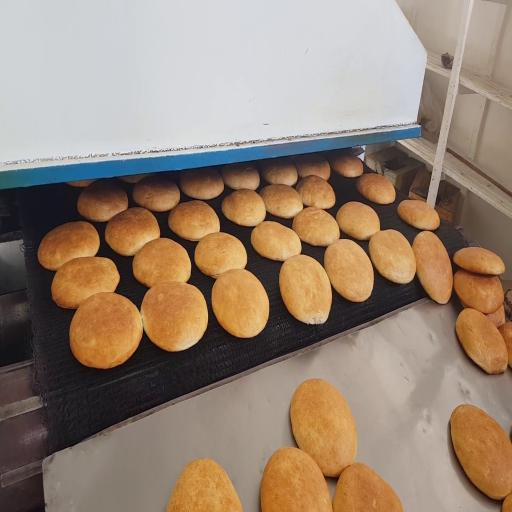bread: (290, 379, 357, 476), (450, 405, 511, 499), (70, 293, 142, 368), (141, 282, 207, 351), (261, 448, 332, 511), (212, 269, 269, 338), (167, 459, 242, 511), (279, 255, 331, 324), (51, 257, 119, 309), (456, 308, 507, 374), (333, 463, 403, 511), (324, 239, 373, 302), (412, 231, 453, 304), (38, 221, 99, 270), (133, 238, 191, 287), (105, 207, 159, 255), (369, 230, 416, 283), (195, 233, 247, 278), (454, 270, 503, 313), (78, 180, 128, 222), (168, 201, 219, 241), (251, 221, 301, 261), (293, 207, 339, 246), (336, 202, 380, 240), (133, 175, 179, 211), (222, 189, 266, 226), (260, 184, 303, 218), (454, 247, 505, 275), (180, 168, 223, 200), (296, 175, 335, 209), (398, 200, 439, 230), (357, 174, 395, 204), (261, 158, 297, 186), (222, 163, 259, 190), (294, 155, 330, 180), (329, 153, 363, 177), (499, 322, 511, 367), (486, 305, 505, 327), (487, 305, 505, 327), (120, 174, 153, 183), (67, 179, 95, 187), (502, 494, 511, 511)
